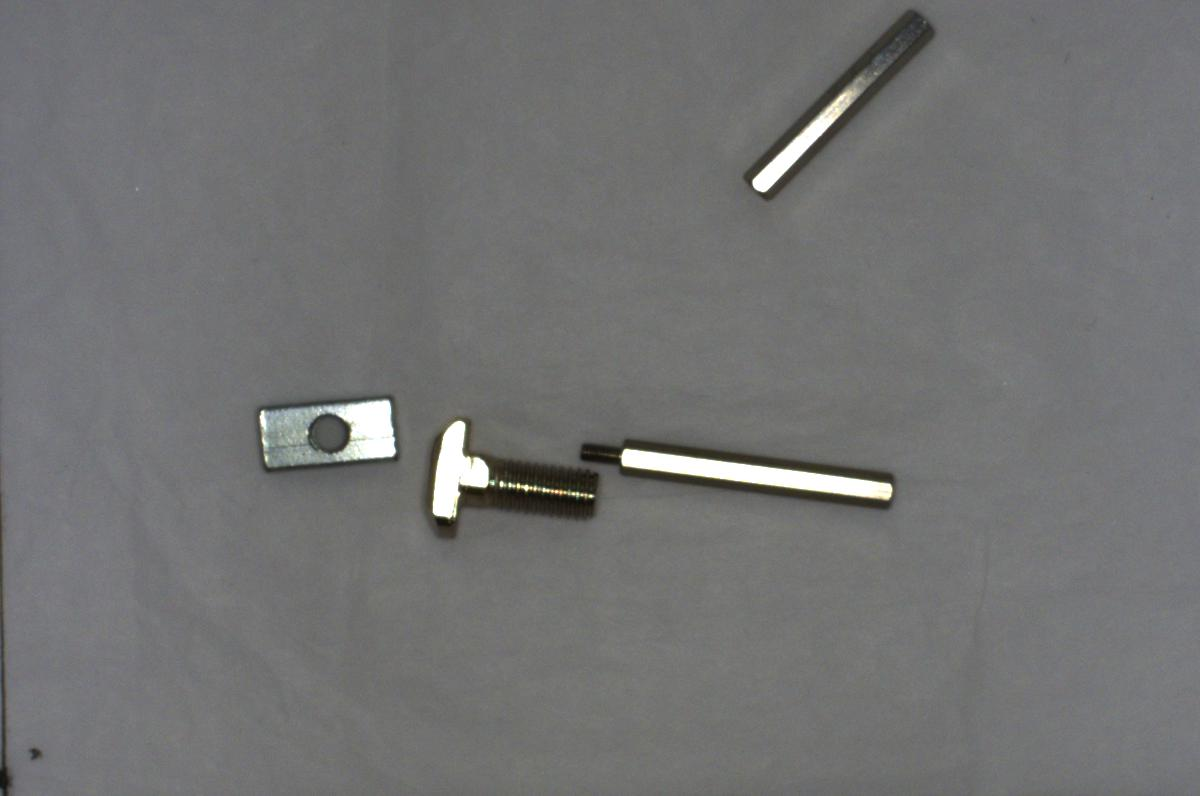Double hexagonal column: (740, 9, 944, 205)
Hexagonal steel column: (571, 420, 905, 510)
Rectangular nut: (241, 390, 405, 470)
T-shaped screw: (413, 412, 602, 539)
